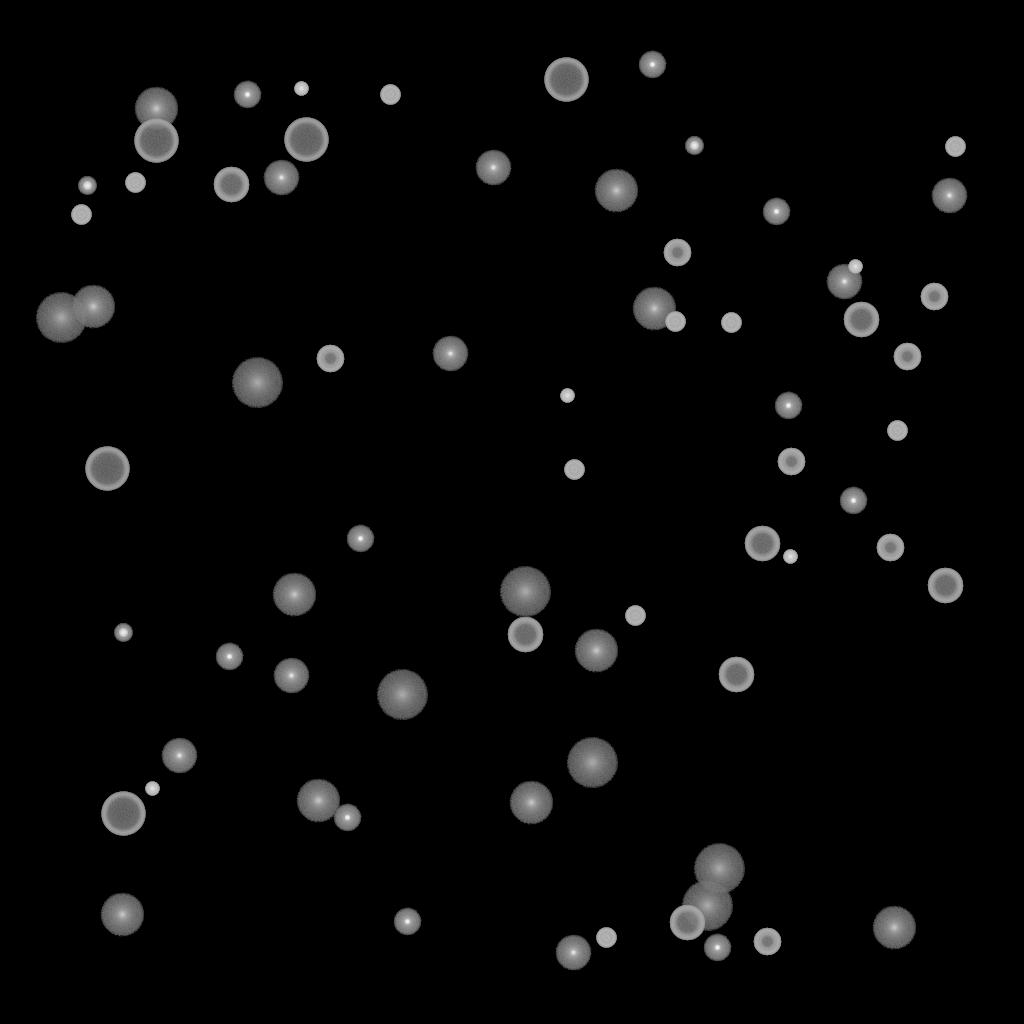depth:-10: (638, 51, 666, 79), (774, 392, 802, 420), (346, 525, 374, 553), (233, 81, 261, 109), (393, 908, 421, 936), (215, 643, 243, 671), (333, 804, 361, 832), (703, 934, 731, 962), (839, 487, 867, 515), (762, 198, 790, 226)
depth:-20: (685, 137, 703, 155), (114, 624, 132, 642), (78, 177, 96, 195)
depth:-30: (294, 82, 308, 96), (848, 260, 862, 274), (783, 550, 797, 564), (145, 782, 159, 796), (560, 389, 574, 403)
depth:-40: (625, 606, 645, 626), (125, 173, 145, 193), (564, 460, 584, 480), (380, 85, 400, 105), (721, 313, 741, 333), (71, 205, 91, 225), (665, 312, 685, 332), (596, 928, 616, 948), (887, 421, 907, 441), (945, 137, 965, 157)
depth:-50: (777, 448, 805, 476), (663, 239, 691, 267), (316, 345, 344, 373), (920, 283, 948, 311), (893, 343, 921, 371), (753, 928, 781, 956), (876, 534, 904, 562)
depth:-60: (669, 905, 705, 941), (744, 526, 780, 562), (718, 657, 754, 693), (507, 617, 543, 653), (843, 302, 879, 338), (213, 167, 249, 203), (927, 568, 963, 604)
depth:-70: (284, 118, 328, 162), (85, 447, 129, 491), (544, 58, 588, 102), (134, 119, 178, 163), (101, 792, 145, 836)
depth:0: (273, 658, 309, 694), (432, 336, 468, 372), (931, 178, 967, 214), (161, 738, 197, 774), (555, 935, 591, 971), (475, 150, 511, 186), (263, 160, 299, 196), (826, 264, 862, 300)
depth:10: (71, 285, 115, 329), (574, 629, 618, 673), (872, 906, 916, 950), (296, 779, 340, 823), (272, 573, 316, 617), (632, 287, 676, 331), (594, 169, 638, 213), (134, 87, 178, 131), (100, 893, 144, 937), (509, 781, 553, 825)
depth:20: (231, 358, 283, 408), (693, 844, 745, 894), (681, 881, 733, 931), (376, 670, 428, 720), (566, 738, 618, 788), (499, 567, 551, 617), (35, 293, 87, 343)
